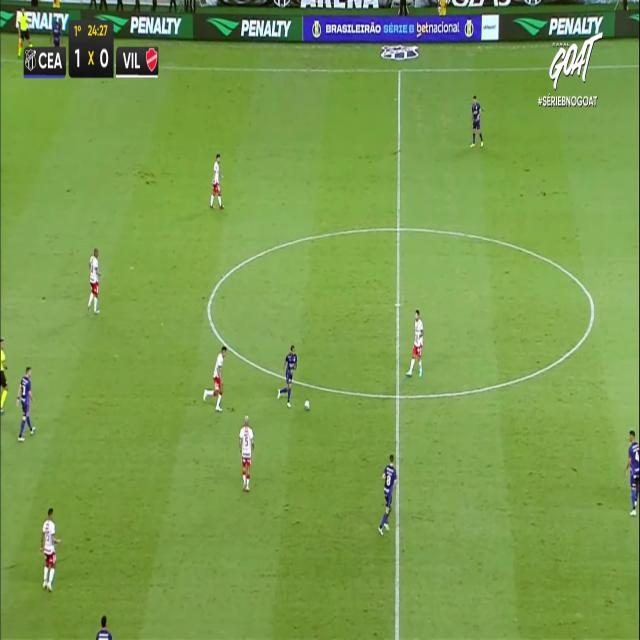ball: (303, 398, 310, 410)
player: (41, 507, 60, 591), (202, 345, 225, 411), (16, 365, 35, 440), (379, 454, 396, 536), (625, 429, 640, 516), (277, 343, 297, 407), (406, 309, 423, 377), (238, 414, 253, 491), (88, 246, 103, 313), (209, 153, 224, 208), (470, 94, 483, 147), (94, 614, 114, 639)
referee: (16, 7, 32, 59), (0, 336, 8, 413)
